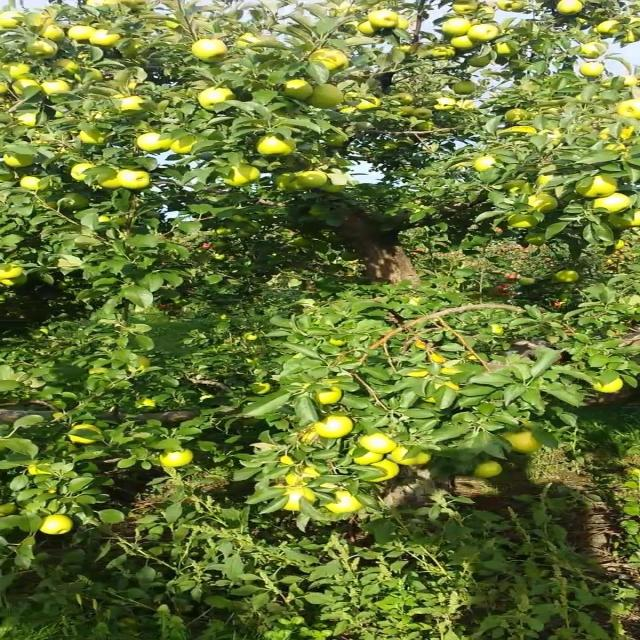apple: (576, 175, 618, 197), (313, 415, 353, 438), (309, 48, 349, 71), (324, 490, 362, 514), (307, 84, 344, 108), (358, 432, 398, 454), (198, 88, 236, 110), (389, 446, 431, 465), (504, 431, 542, 452), (191, 39, 227, 61), (282, 488, 316, 511), (256, 135, 293, 156), (593, 192, 631, 212), (224, 165, 260, 186), (284, 466, 320, 486), (136, 132, 171, 152), (67, 424, 102, 444), (369, 460, 400, 482), (40, 514, 73, 534), (282, 79, 313, 100), (296, 170, 329, 189), (118, 169, 149, 189), (367, 9, 398, 29), (609, 209, 640, 229), (160, 449, 193, 467), (467, 24, 500, 42), (527, 194, 558, 212), (440, 18, 471, 36), (89, 29, 120, 47), (27, 40, 58, 58), (507, 212, 538, 229), (58, 192, 89, 209), (473, 460, 502, 478), (578, 41, 607, 59), (316, 386, 342, 405), (276, 172, 302, 191), (2, 62, 31, 79), (71, 162, 96, 181), (171, 135, 196, 154), (96, 171, 122, 189), (67, 25, 96, 41), (353, 449, 382, 465), (616, 99, 640, 118), (78, 129, 107, 144), (20, 176, 49, 191), (593, 378, 624, 392), (40, 80, 71, 94), (2, 154, 33, 168), (0, 11, 24, 29), (578, 61, 604, 77), (11, 79, 40, 93), (593, 20, 620, 35), (53, 59, 80, 74), (24, 12, 51, 27), (556, 0, 582, 15), (120, 96, 144, 112), (429, 45, 456, 59), (451, 35, 476, 50), (453, 80, 478, 95), (493, 41, 518, 56), (496, 0, 527, 12), (473, 155, 496, 171), (356, 96, 382, 110), (0, 264, 24, 279), (42, 25, 64, 41), (356, 20, 378, 36), (453, 0, 478, 14), (504, 108, 529, 122), (433, 98, 458, 111), (553, 270, 580, 282), (467, 54, 491, 67), (236, 32, 258, 46), (18, 112, 38, 127), (502, 180, 527, 192), (324, 134, 347, 147), (620, 30, 640, 44), (524, 232, 544, 246), (504, 125, 538, 133), (0, 502, 18, 517), (249, 382, 271, 394), (27, 464, 51, 475), (84, 68, 104, 81), (133, 356, 151, 370), (618, 126, 636, 140), (116, 79, 138, 90), (396, 15, 411, 30), (396, 92, 413, 105), (411, 108, 431, 119), (396, 105, 416, 116), (84, 0, 120, 6), (396, 44, 416, 54), (136, 398, 156, 408), (458, 99, 476, 110), (536, 174, 553, 185), (518, 276, 536, 286), (622, 75, 638, 86), (322, 184, 344, 192), (120, 0, 147, 6), (242, 332, 258, 341), (340, 106, 358, 114), (329, 339, 347, 346), (89, 368, 109, 374), (491, 324, 502, 334), (216, 228, 230, 235), (98, 215, 111, 222), (493, 226, 504, 233)
